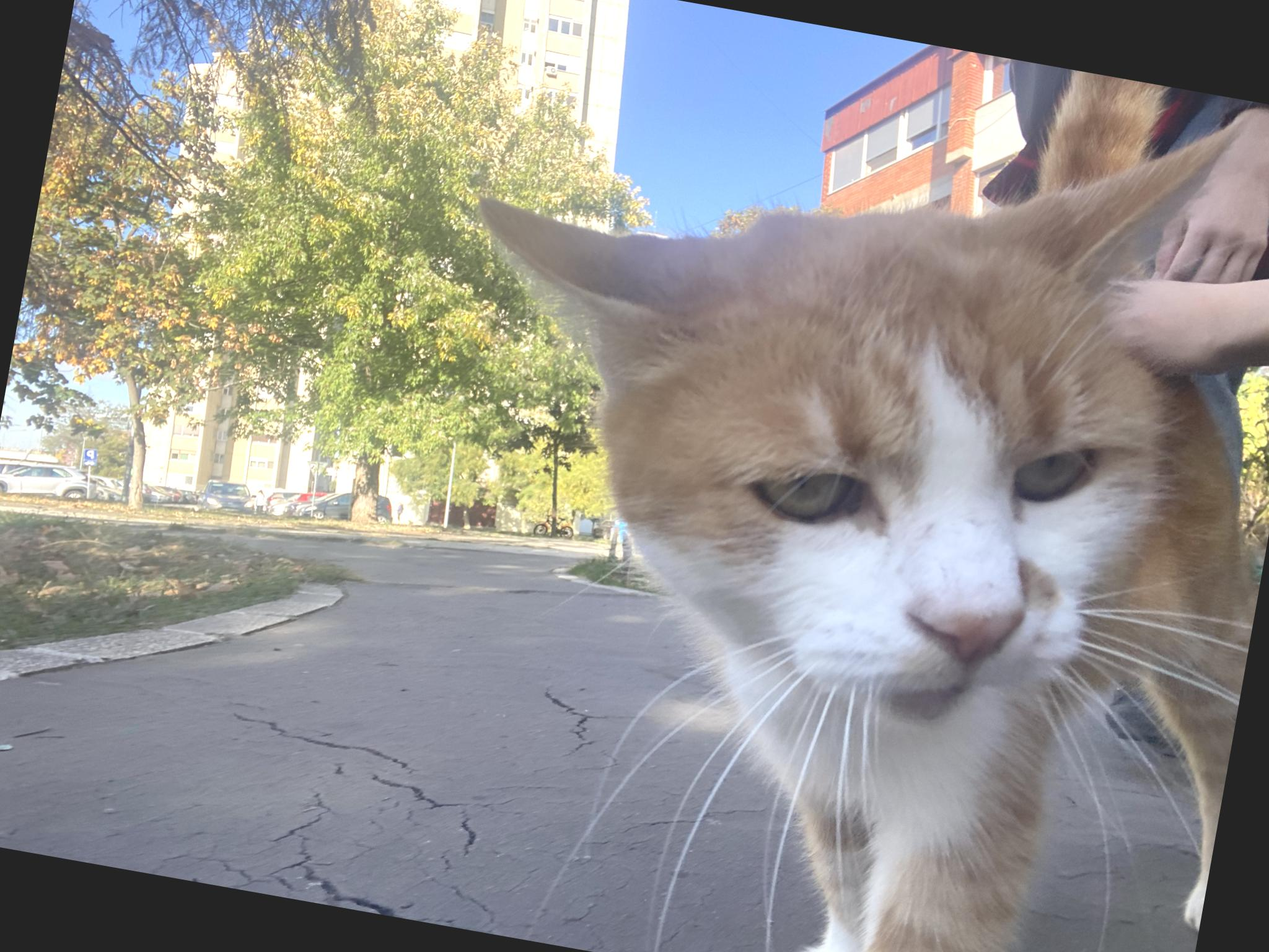macka: (348, 0, 1269, 952)
